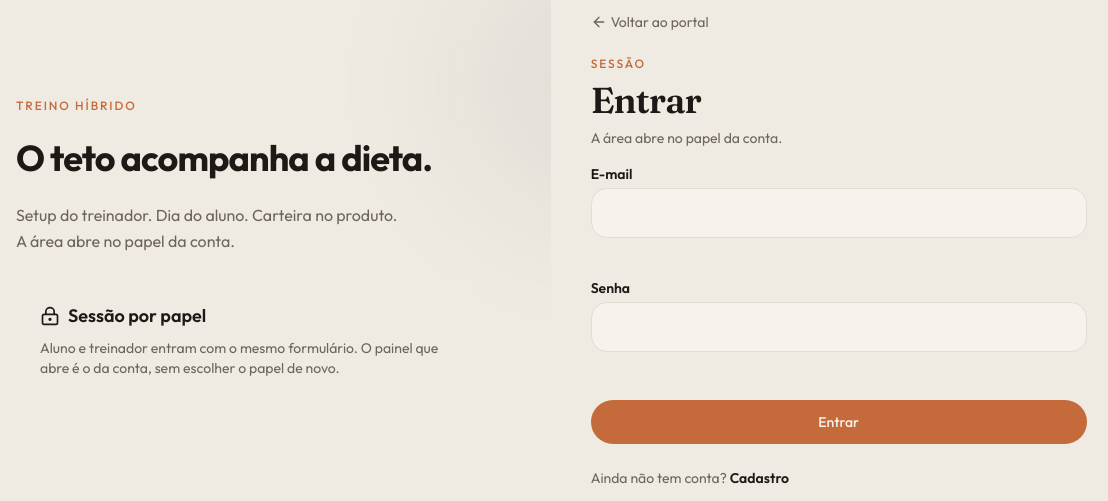
Test case: login vazio mostra o erro do campo e não fala que a combinação não confere
Click the button "Entrar" at (839, 422), box [591, 400, 1087, 444]
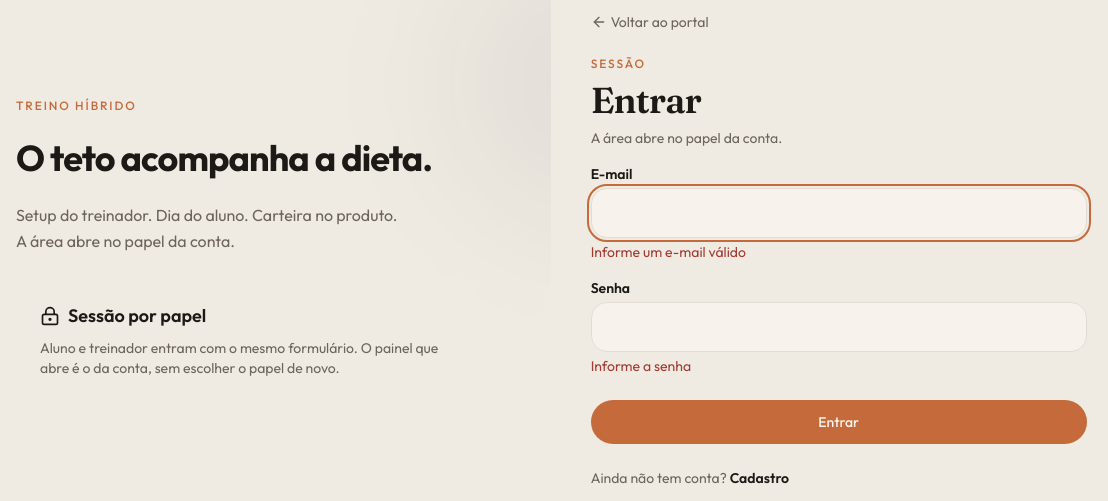
Check: the text "Informe um e-mail válido" is shown, box [591, 243, 746, 261]
